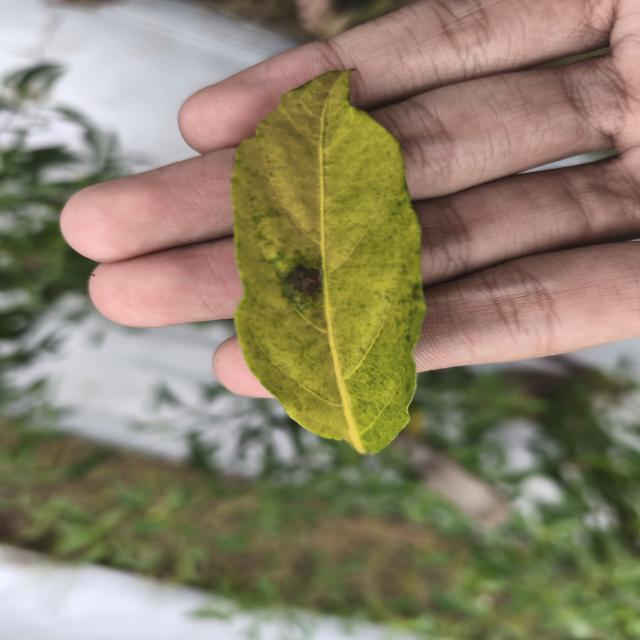Virus Kuning: (230, 69, 428, 455)
